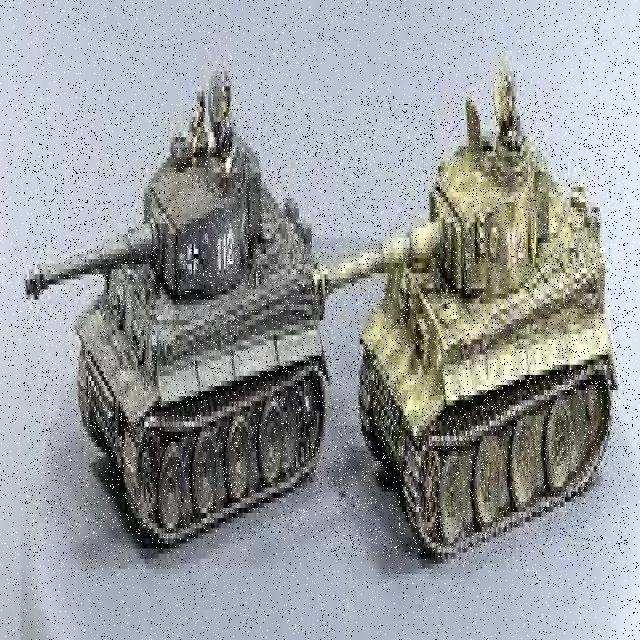MIL_MBT: (330, 101, 630, 558), (24, 104, 331, 541)
